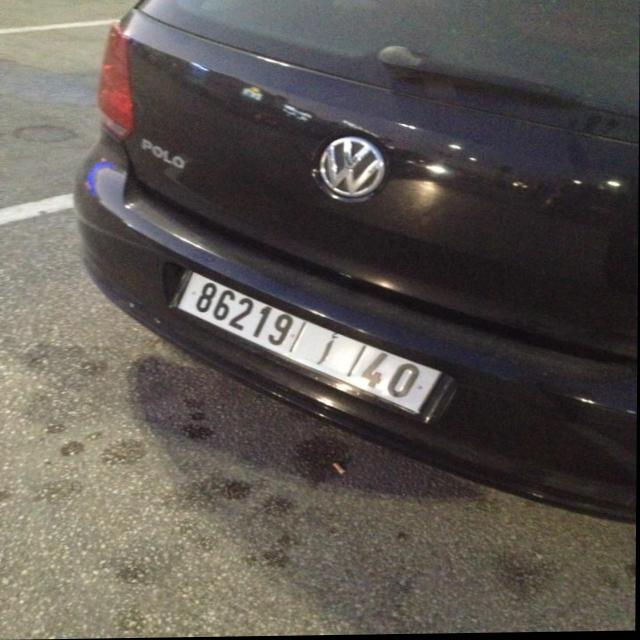License-Plate: (178, 273, 443, 415)
